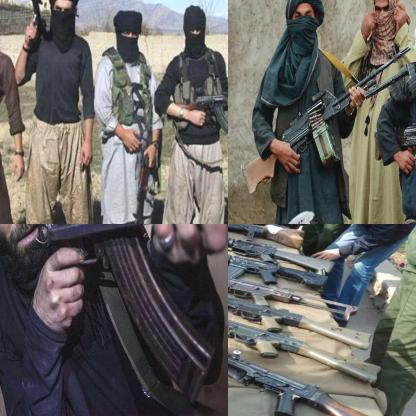rifle: (37, 224, 227, 403), (240, 43, 414, 195), (228, 292, 415, 415), (228, 273, 383, 388), (228, 260, 375, 349), (228, 249, 351, 314), (228, 224, 335, 274), (228, 236, 330, 287), (371, 106, 415, 171), (175, 87, 227, 135), (131, 146, 159, 223), (19, 0, 48, 43), (228, 224, 278, 237)
